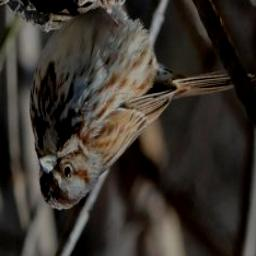Sparrow: (30, 0, 256, 214)
